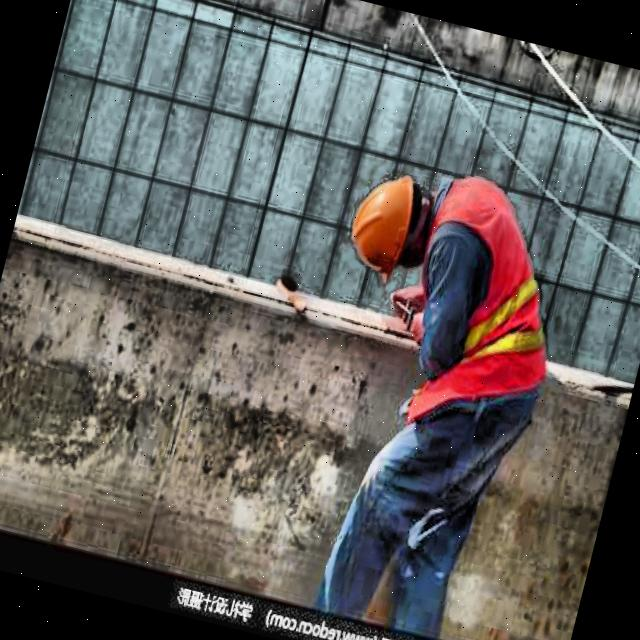helmet: (338, 169, 431, 281)
